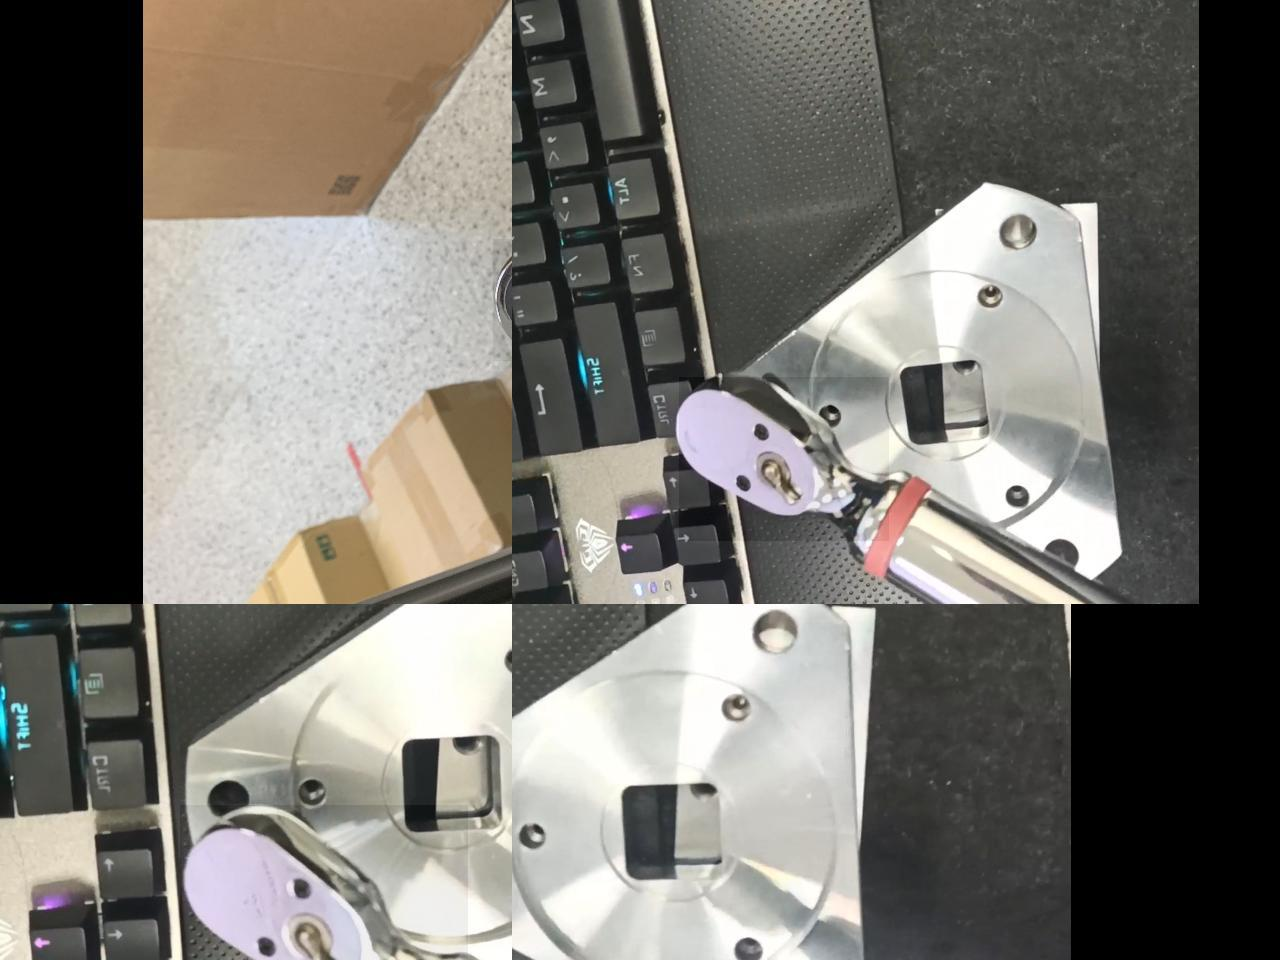Tool: (180, 804, 468, 960), (679, 376, 889, 541)
